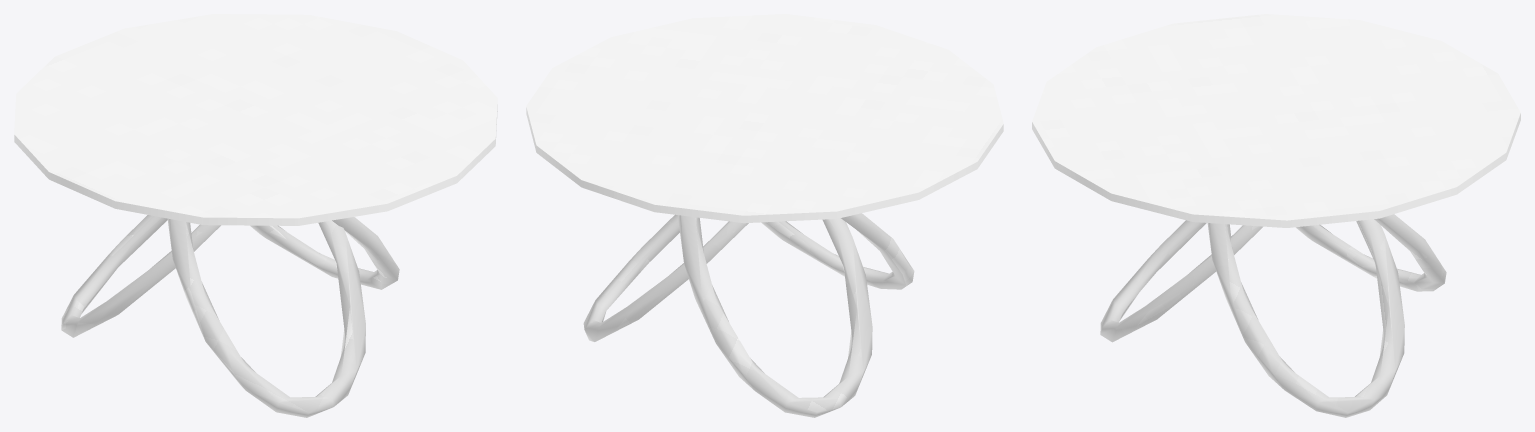
The model's file is DiningTable.glb.
3 renders of one model, left to right at view 1: azimuth 30°, elevation 25°; view 2: azimuth 150°, elevation 25°; view 3: azimuth 270°, elevation 25°, orthographic. The views are drawn at different scales.
Visible parts, largest first — view 1: DiningTable; view 2: DiningTable; view 3: DiningTable.
Boxes of the visible parts, x1,y1,x2,y2 form: DiningTable: [14, 14, 497, 417]; DiningTable: [526, 14, 1003, 417]; DiningTable: [1032, 14, 1520, 417].
Size of the model in its own units: 1.26 by 0.6557 by 1.26.
1 material, 1 textured.
